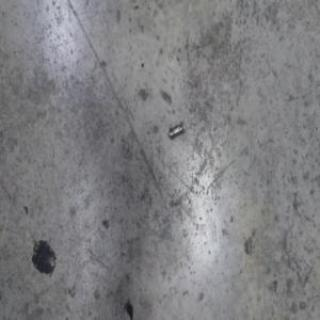Bolttrack_idkeyframe: (167, 120, 184, 140)
